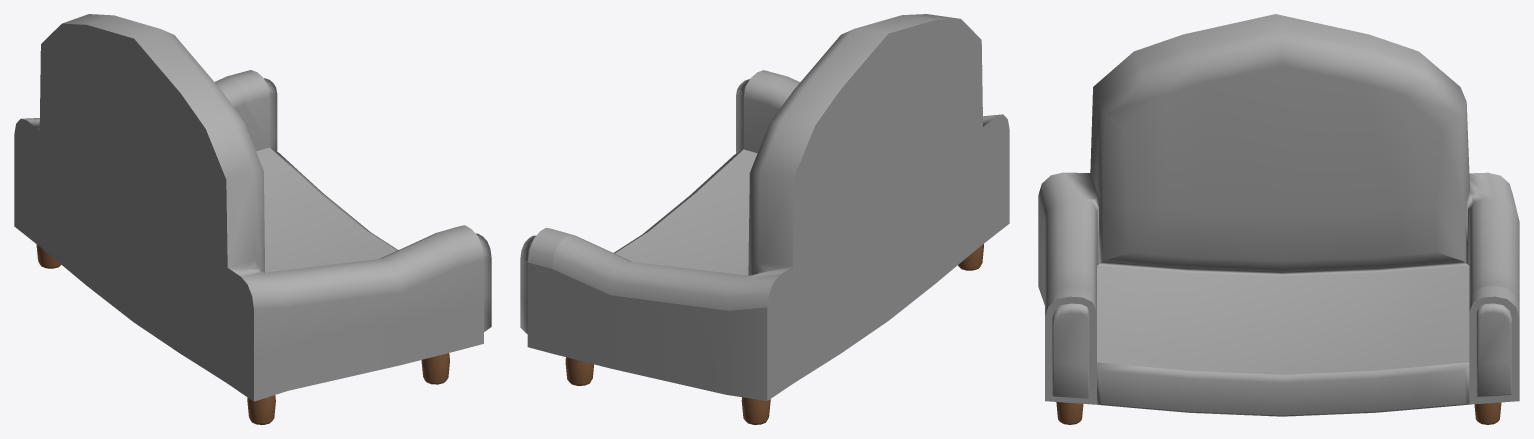
Rendered from bank_final.fbx.
3 views of the same model, side by side, from view 1: azimuth 30°, elevation 25°; view 2: azimuth 150°, elevation 25°; view 3: azimuth 270°, elevation 25° (orthographic). The views are drawn at different scales.
Parts seen in each view (by area): view 1: bank1; view 2: bank1; view 3: bank1.
Part boxes in pixels (left/top/right/bottom): bank1: left=14, top=14, right=491, bottom=424; bank1: left=520, top=14, right=1009, bottom=424; bank1: left=1038, top=14, right=1519, bottom=424.
Bounding box in the file's own units: 0.8876 × 1.08 × 1.52.
